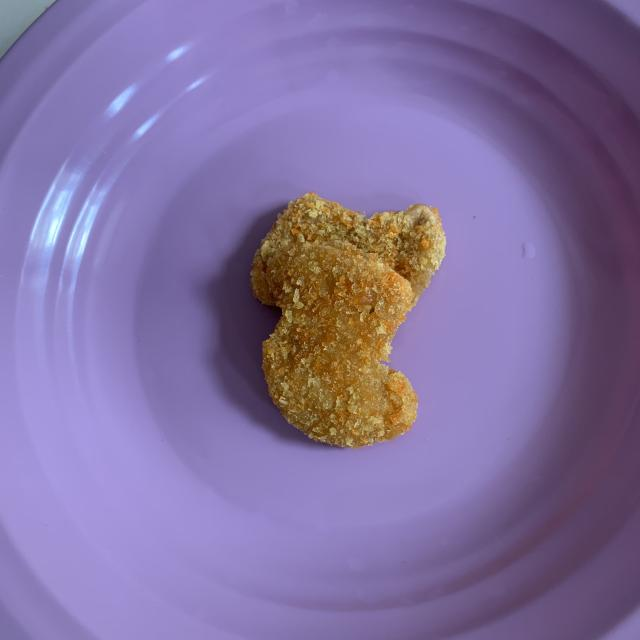Frango: (254, 244, 416, 445), (250, 193, 449, 315)
